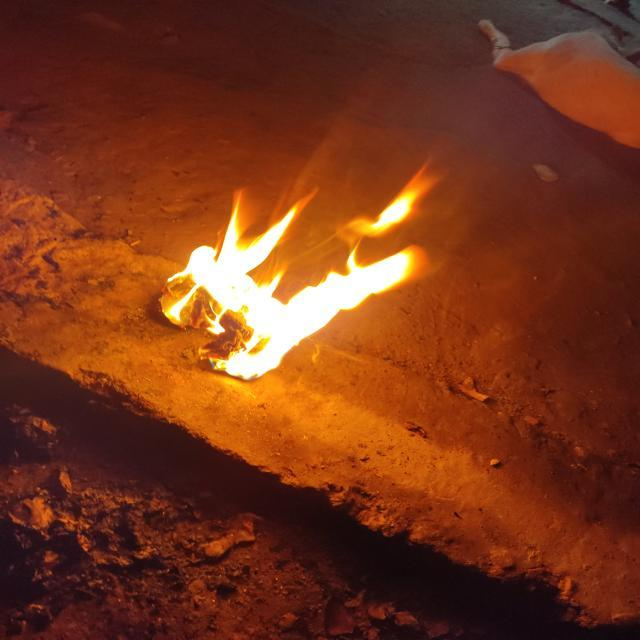Fire: (156, 167, 441, 383)
